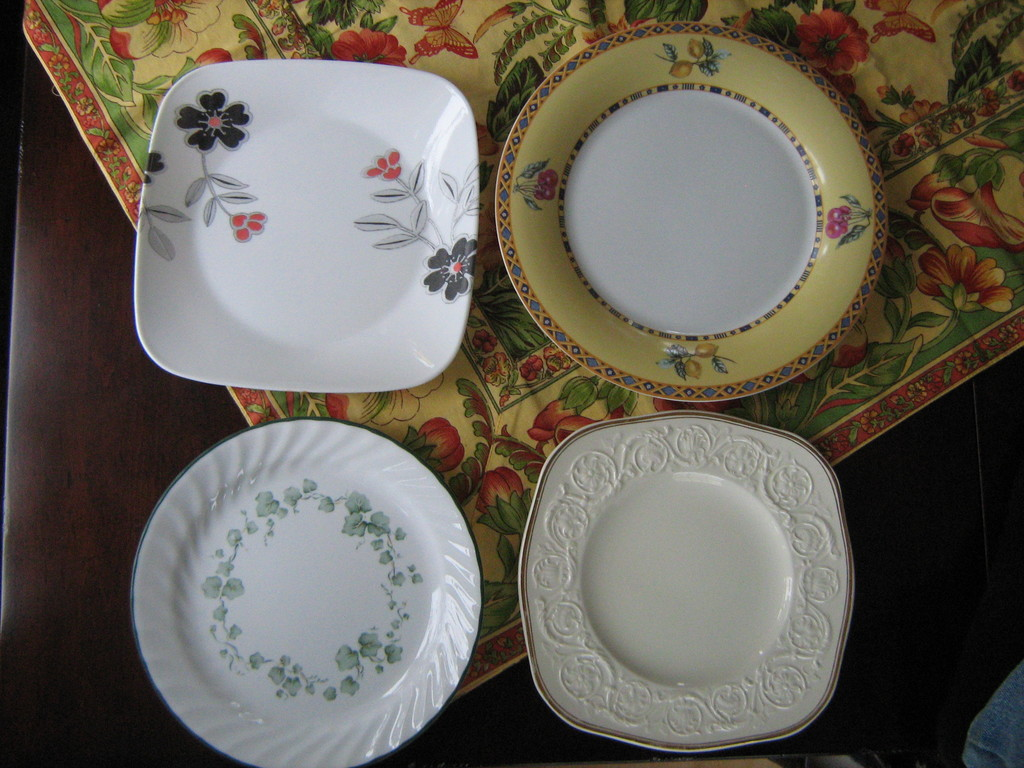plate: (494, 23, 889, 405), (515, 408, 855, 748), (133, 65, 479, 393)
